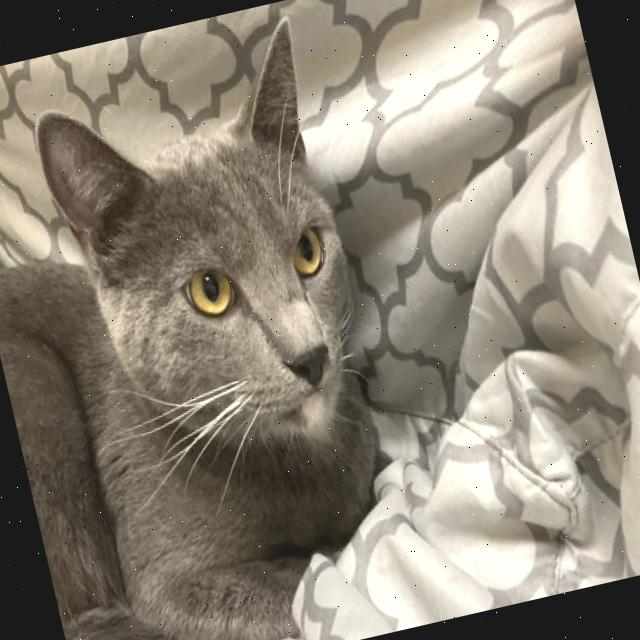russian_blue_cat: (11, 3, 418, 532)
